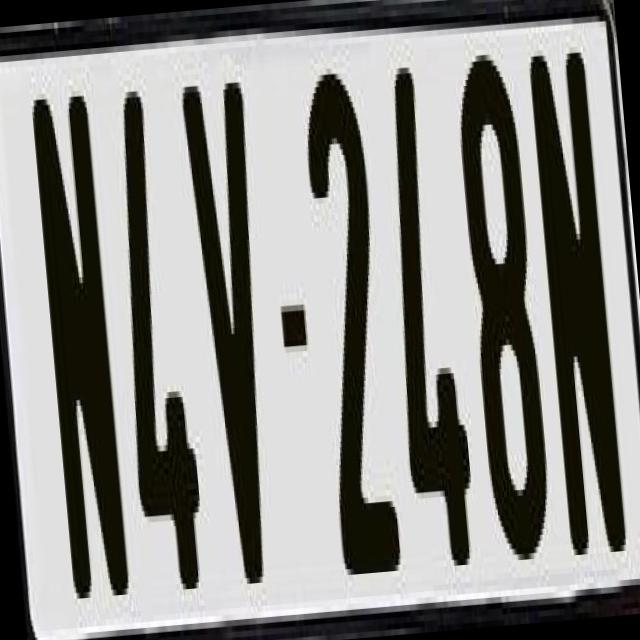2: (300, 59, 410, 581)
4: (371, 53, 480, 592), (101, 76, 212, 598)
8: (453, 51, 560, 568)
N: (527, 51, 631, 572), (26, 83, 124, 588)
V: (177, 75, 287, 597)
